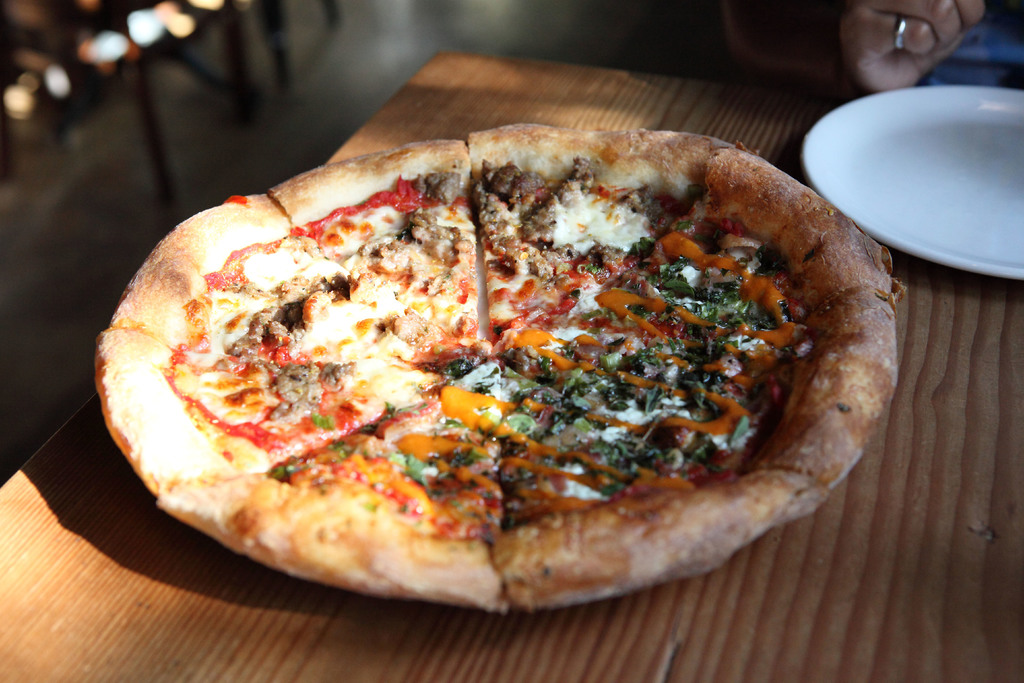Pizza: (97, 115, 904, 606)
